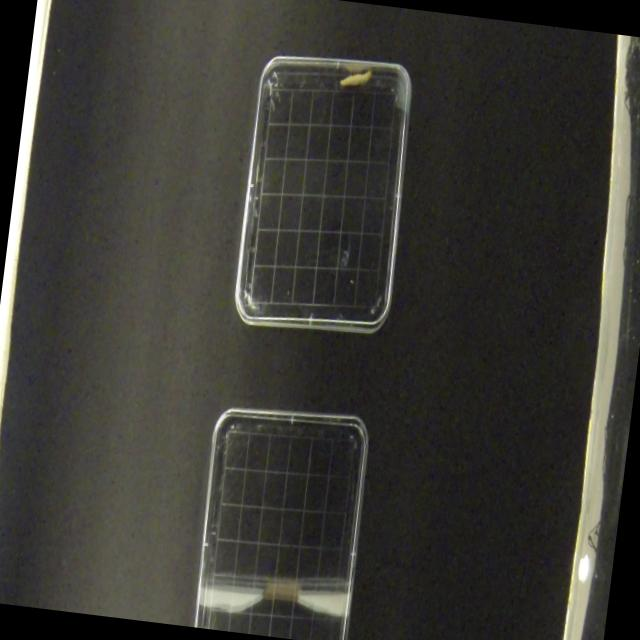larva: (339, 62, 374, 94)
